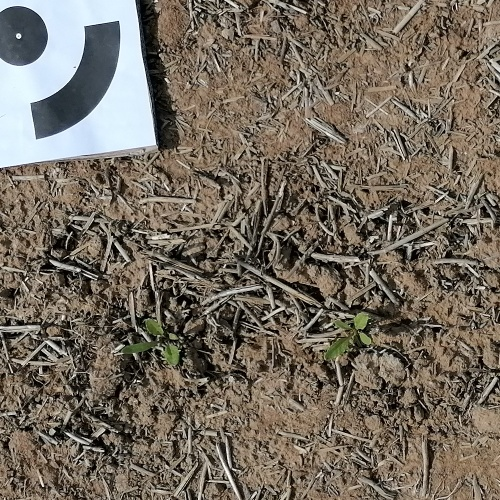beet: (121, 318, 181, 369), (325, 313, 368, 360)
